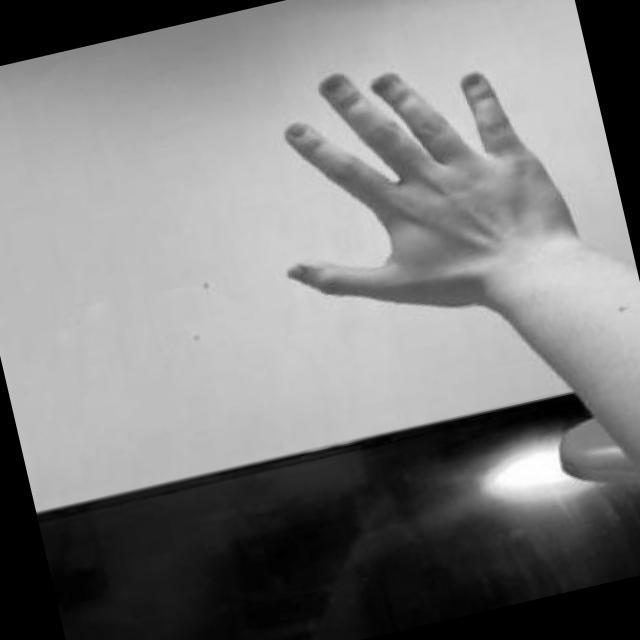without_gloves: (235, 15, 603, 366)
